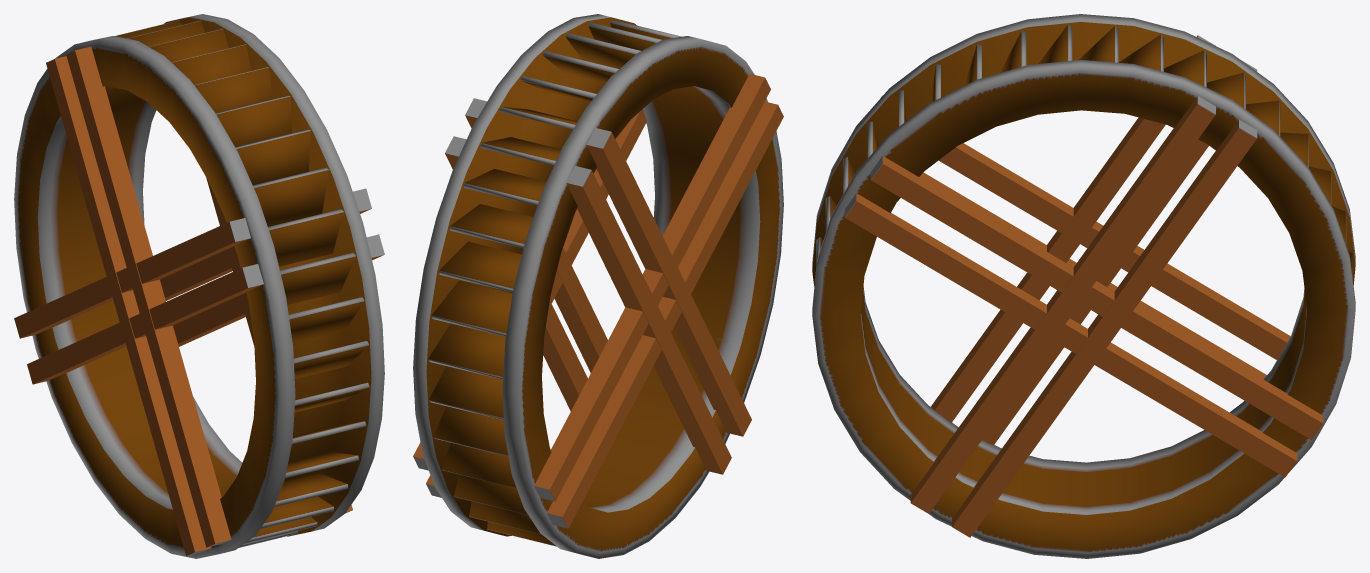
The model's file is WaterWheel_action3.fbx.
3 renders of one model, left to right at view 1: azimuth 30°, elevation 25°; view 2: azimuth 150°, elevation 25°; view 3: azimuth 270°, elevation 25°, orthographic. The views are drawn at different scales.
Parts seen in each view (by area): view 1: WasserRad; view 2: WasserRad; view 3: WasserRad.
Part boxes in pixels (left/top/right/bottom): WasserRad: left=14, top=14, right=384, bottom=558; WasserRad: left=413, top=14, right=783, bottom=558; WasserRad: left=812, top=14, right=1355, bottom=558.
Size of the model in its own units: 0.599 by 2 by 2.
